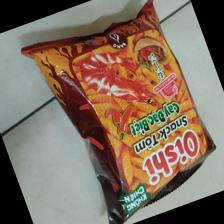Oishi_Cay: (17, 1, 216, 224)
